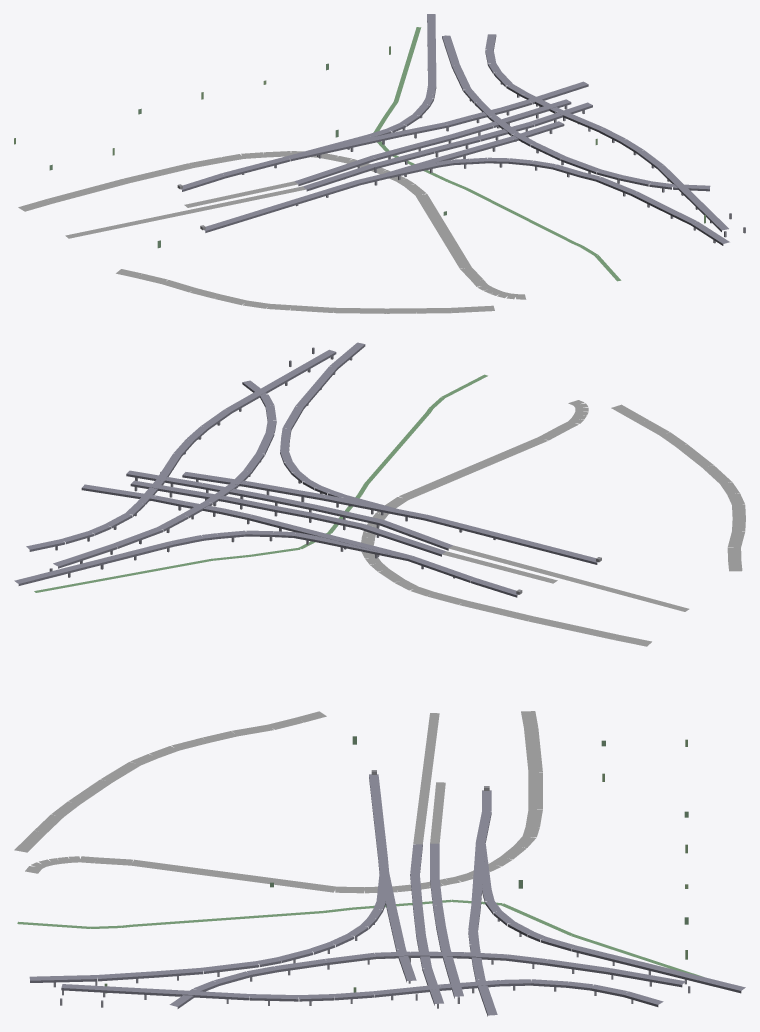
3 views of the same model, one above another, from view 1: azimuth 30°, elevation 25°; view 2: azimuth 150°, elevation 25°; view 3: azimuth 270°, elevation 25° (orthographic). The views are drawn at different scales.
Size of the model in its own units: 529 by 11.29 by 529.
